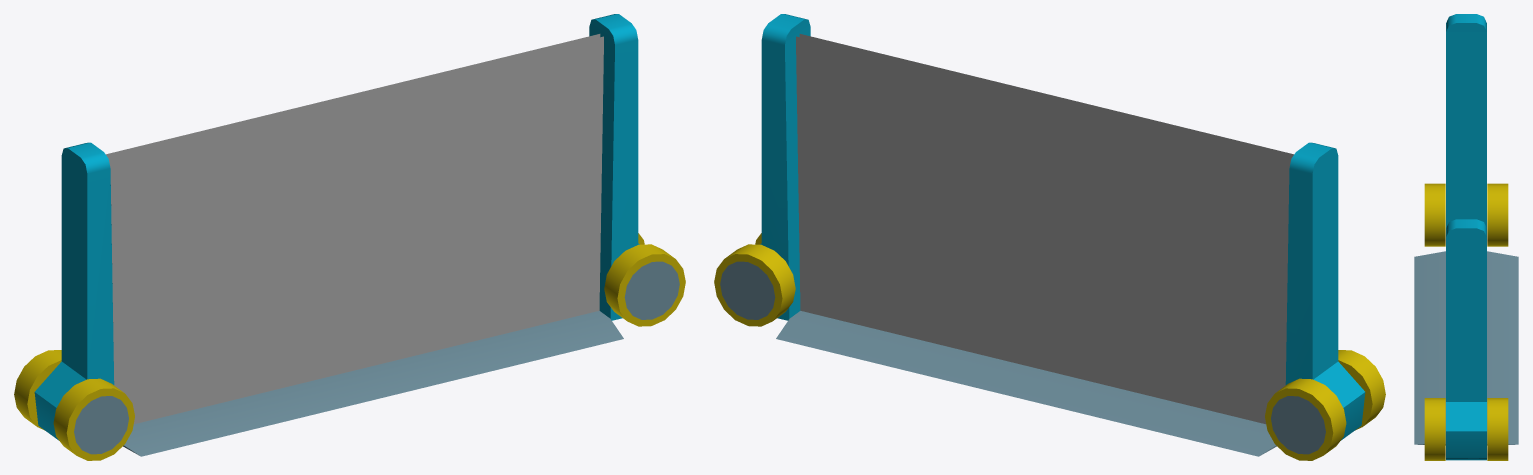
File: counters_cabriolette.fbx
3 views of the same model, side by side, from view 1: azimuth 30°, elevation 25°; view 2: azimuth 150°, elevation 25°; view 3: azimuth 270°, elevation 25° (orthographic). The views are drawn at different scales.
Parts seen in each view (by area): view 1: counter_body, counter_wheel2, counter_wheel1, counter_wheel4; view 2: counter_body, counter_wheel3, counter_wheel4, counter_wheel1; view 3: counter_body, counter_wheel1, counter_wheel4, counter_wheel2, counter_wheel3.
Part boxes in pixels (box(x1,y1,x2,y2)): counter_body: box(34, 14, 639, 456); counter_wheel2: box(604, 244, 685, 326); counter_wheel1: box(53, 378, 134, 460); counter_wheel4: box(14, 350, 61, 430); counter_body: box(760, 14, 1365, 456); counter_wheel3: box(714, 244, 795, 326); counter_wheel4: box(1265, 378, 1346, 460); counter_wheel1: box(1338, 350, 1385, 430); counter_body: box(1414, 14, 1518, 460); counter_wheel1: box(1424, 183, 1445, 246); counter_wheel4: box(1487, 183, 1508, 246); counter_wheel2: box(1424, 398, 1445, 460); counter_wheel3: box(1487, 398, 1508, 460).
Size of the model in its own units: 8.99 by 4 by 1.65.
